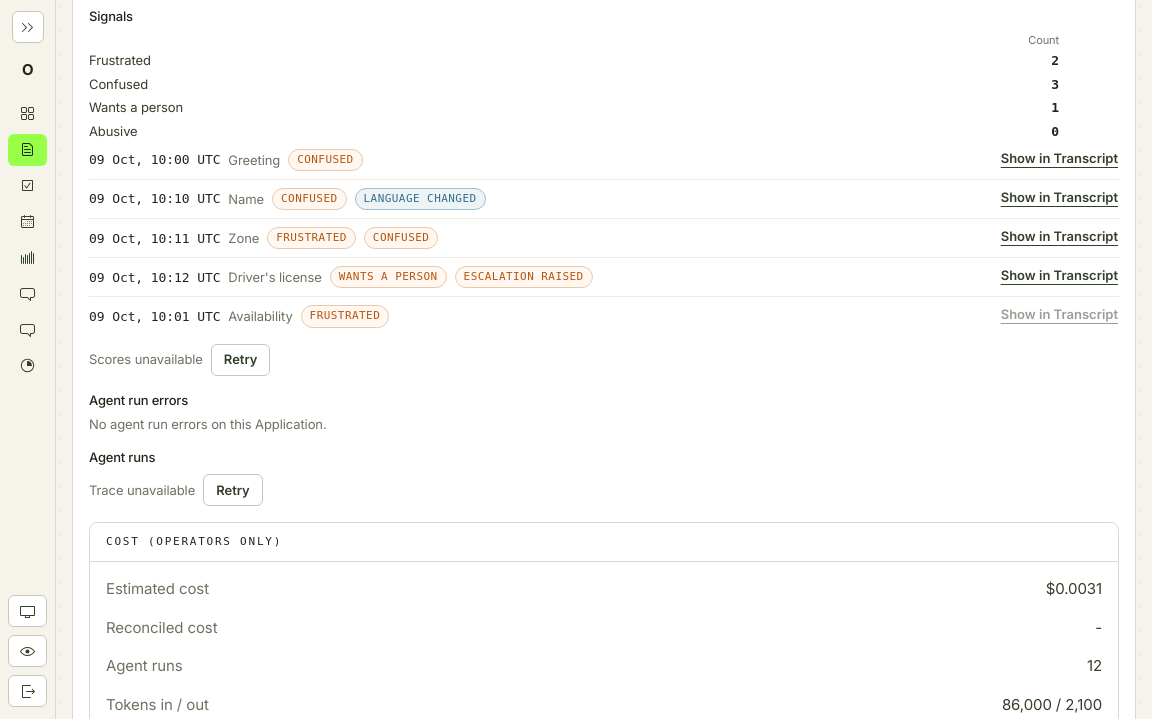
Test case: Operator panel: Jev readings (JR2, JR4) › falls back to the flag rows with Scores unavailable and Retry when the request fails, and Retry loads the readings
(page scrolled)
Expected: the text "Scores unavailable" is shown, [89, 351, 203, 368]
Click the button "Retry" next to "Scores unavailable" at point(241, 360), box [211, 344, 270, 376]
(page scrolled)
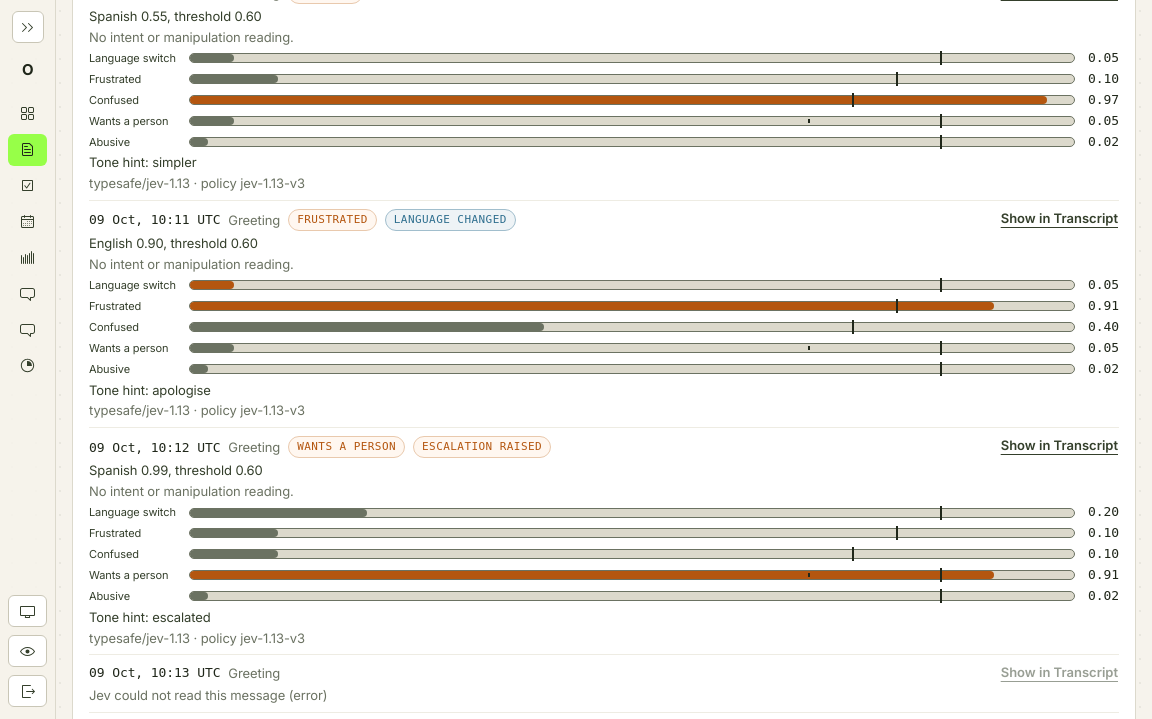
Expected: the text "Scores unavailable" is gone
